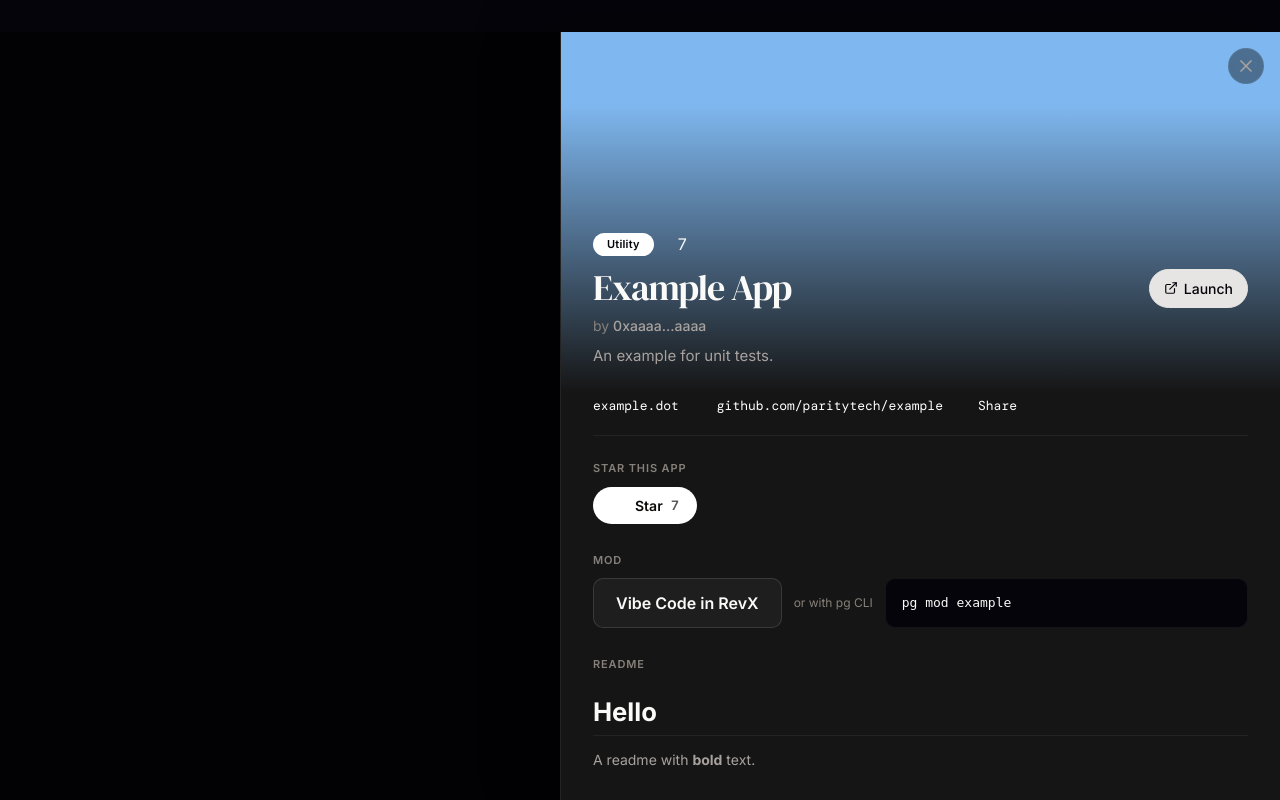
Test: AppDetailPanel — star toggle › opens the become-a-builder nudge for a connected non-builder instead of starring
Click the button with test id "star-toggle-btn": (645, 505) x1=593 y1=486 x2=697 y2=524
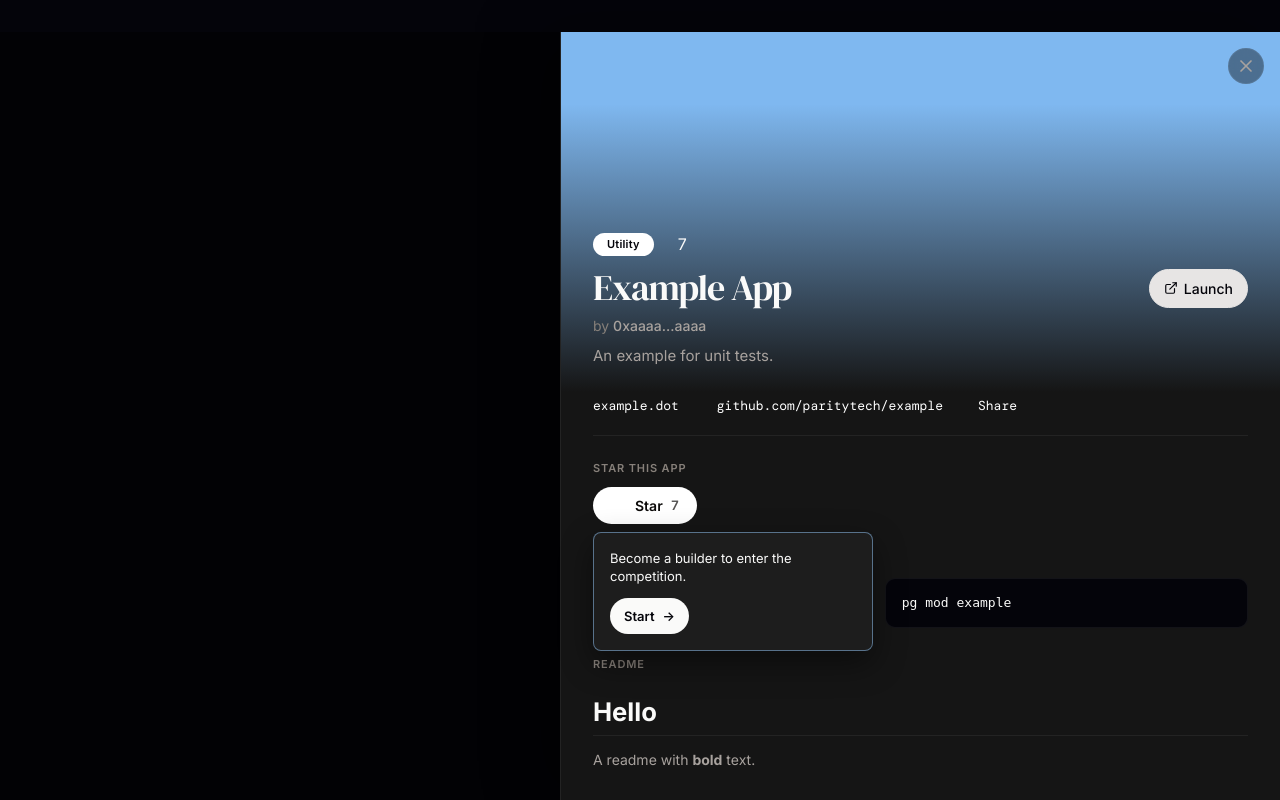
Expected: the dialog with test id "locked-hint" is shown, x1=593 y1=532 x2=873 y2=651
